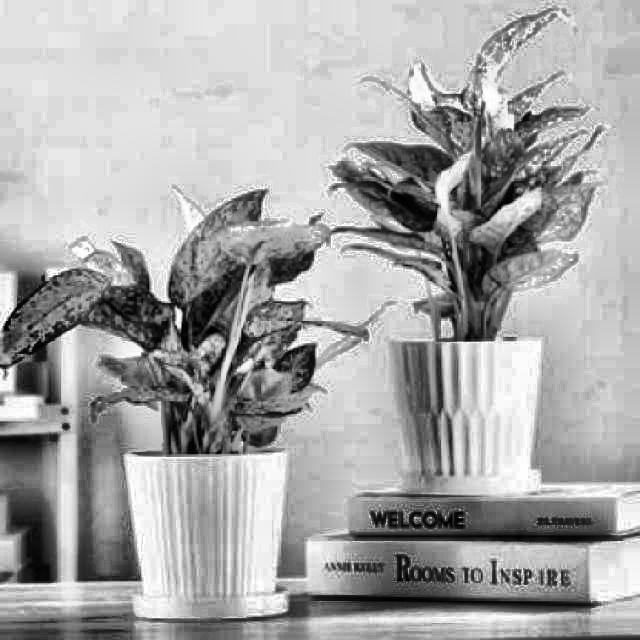plants: (83, 232, 303, 591), (373, 98, 561, 472)
